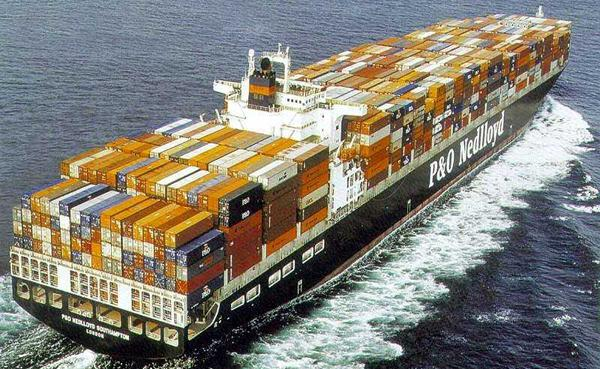Cargoship: (6, 2, 576, 366)
